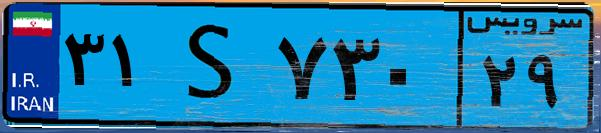0: (385, 28, 445, 110)
1: (110, 28, 158, 98)
2: (475, 38, 525, 113)
3: (330, 28, 385, 110), (57, 26, 110, 100)
7: (270, 28, 330, 110)
9: (525, 38, 570, 115)
S: (158, 12, 270, 120)
